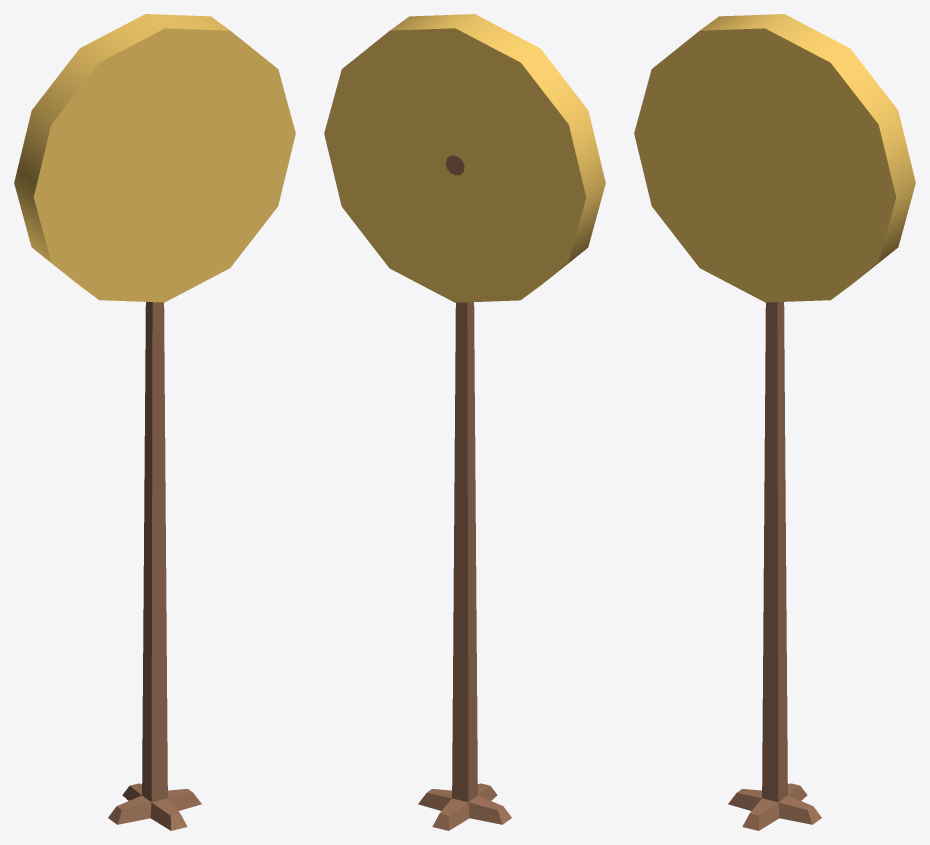
File: Alvo_Agulha.fbx
3 views of the same model, side by side, from view 1: azimuth 30°, elevation 25°; view 2: azimuth 150°, elevation 25°; view 3: azimuth 330°, elevation 25° (orthographic).
Visible parts, largest first — view 1: Alvo_Agulha; view 2: Alvo_Agulha; view 3: Alvo_Agulha.
Boxes of the visible parts, <box> form: Alvo_Agulha: <box>14,14,295,830</box>; Alvo_Agulha: <box>324,14,605,830</box>; Alvo_Agulha: <box>634,14,915,830</box>.
Bounding box in the file's own units: 89.61 × 258 × 28.94.
